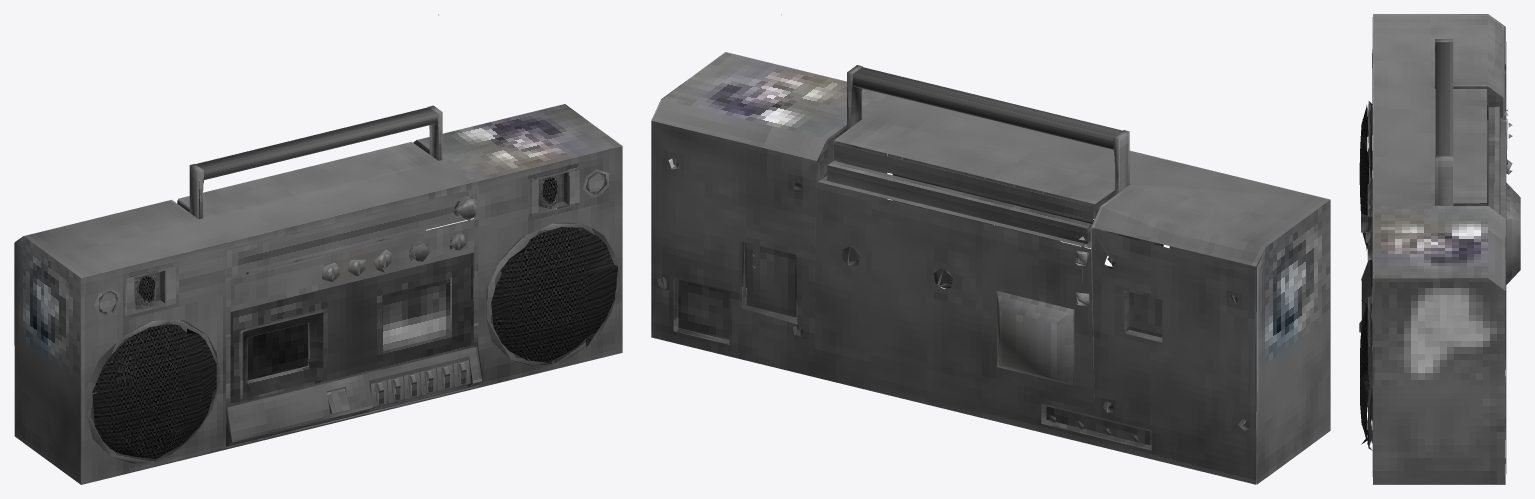
Rendered from boombox.glb.
3 views of the same model, side by side, from view 1: azimuth 30°, elevation 25°; view 2: azimuth 150°, elevation 25°; view 3: azimuth 270°, elevation 25° (orthographic). The views are drawn at different scales.
Parts seen in each view (by area): view 1: boombox; view 2: boombox; view 3: boombox.
Boxes of the visible parts, x1=… form: boombox: x1=14, y1=14, x2=622, y2=484; boombox: x1=651, y1=14, x2=1330, y2=484; boombox: x1=1359, y1=14, x2=1520, y2=484.
Bounding box in the file's own units: 0.7232 × 0.4061 × 0.1865.
Materials: 2 (2 with a texture image).
